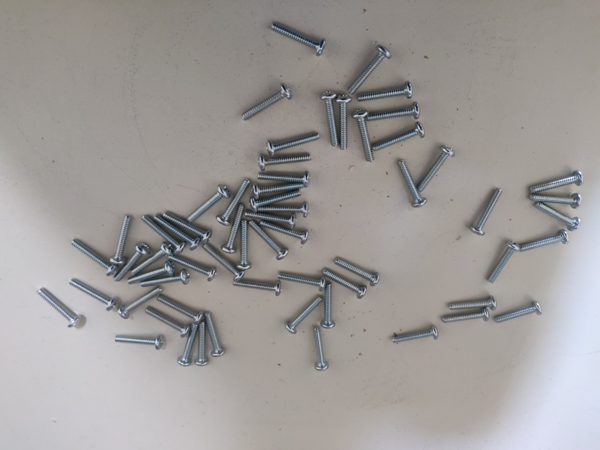longscrew: (239, 84, 295, 122), (350, 46, 391, 96), (269, 22, 329, 53), (486, 237, 522, 286), (414, 148, 455, 191), (36, 288, 81, 327), (471, 188, 506, 238), (69, 239, 117, 275), (167, 205, 211, 242), (186, 184, 231, 220), (140, 217, 184, 253), (155, 216, 199, 252), (200, 247, 249, 279), (394, 163, 428, 209), (116, 287, 162, 320), (532, 165, 586, 193), (69, 280, 114, 313), (374, 124, 427, 152), (357, 79, 415, 104), (363, 96, 421, 121), (219, 180, 249, 227), (250, 224, 289, 260), (130, 243, 173, 275), (534, 203, 584, 230), (336, 259, 382, 288), (168, 254, 215, 281), (284, 299, 320, 334), (115, 244, 147, 282), (159, 297, 202, 325), (147, 307, 187, 337), (323, 271, 365, 299), (496, 303, 543, 327), (523, 230, 570, 254), (111, 215, 134, 264), (259, 225, 314, 245), (225, 203, 246, 253), (320, 91, 339, 146), (355, 110, 374, 165), (251, 180, 305, 199), (250, 189, 303, 208), (259, 171, 312, 190), (259, 153, 312, 172), (268, 134, 321, 153), (334, 96, 352, 151), (128, 262, 174, 283), (144, 268, 190, 289), (189, 324, 211, 367), (208, 316, 230, 359), (176, 326, 198, 368), (318, 287, 339, 330), (312, 330, 333, 372), (280, 274, 329, 291), (256, 203, 315, 217), (112, 337, 166, 352), (234, 278, 283, 294), (389, 328, 438, 344), (441, 309, 490, 325), (450, 294, 498, 310), (243, 214, 302, 227), (524, 195, 584, 205)
